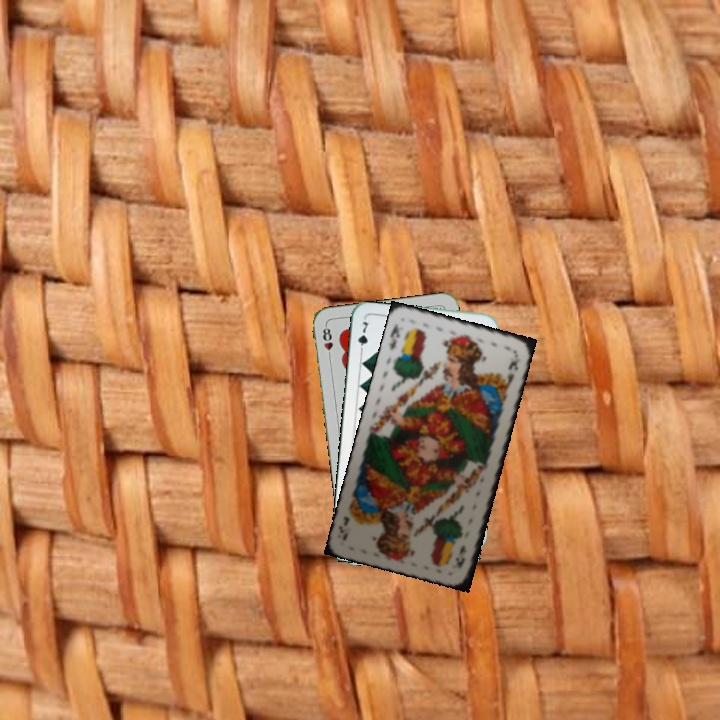EK: (385, 320, 402, 353), (451, 541, 469, 571)
G7: (354, 318, 370, 357)
H8: (319, 322, 335, 362)
